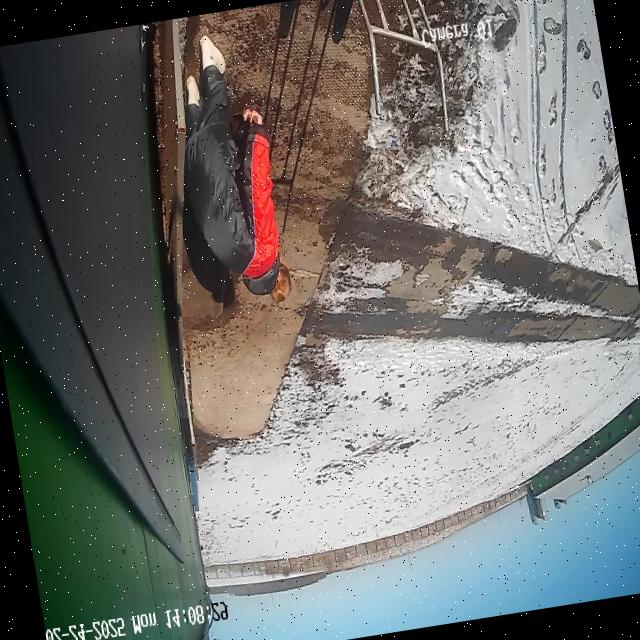Red uniform: (160, 26, 297, 317)
